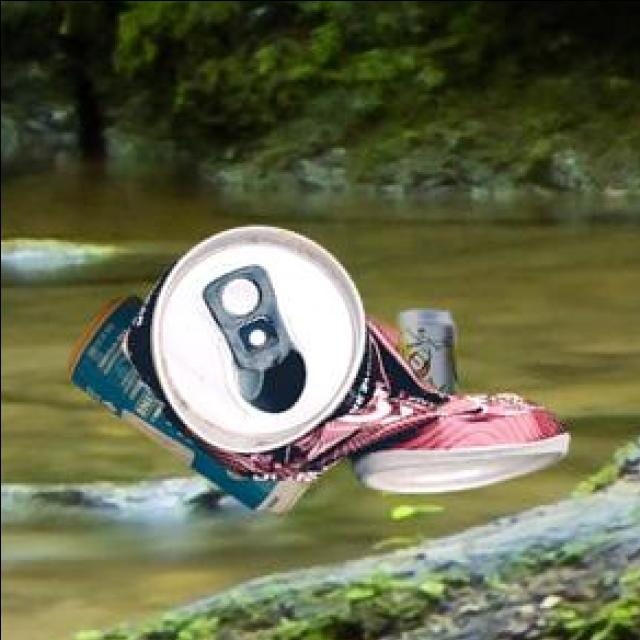logam: (117, 222, 564, 490), (65, 290, 306, 512), (396, 306, 453, 391)
